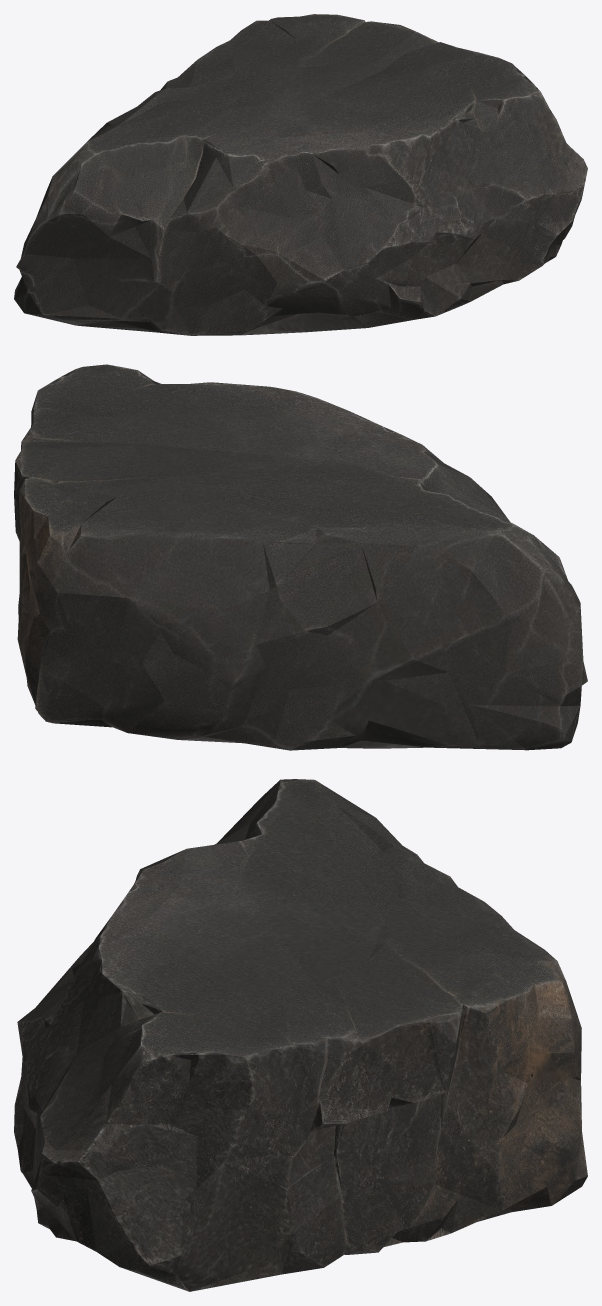
File: co_basalt_block.glb
3 views of the same model, one above another, from view 1: azimuth 30°, elevation 25°; view 2: azimuth 150°, elevation 25°; view 3: azimuth 270°, elevation 25° (orthographic). The views are drawn at different scales.
Visible parts, largest first — view 1: output_unwrapped; view 2: output_unwrapped; view 3: output_unwrapped.
Part boxes in pixels (box(x1,y1,x2,y2)): output_unwrapped: box(14, 14, 587, 335); output_unwrapped: box(14, 364, 587, 750); output_unwrapped: box(14, 779, 587, 1291).
Bounding box in the file's own units: 1.9 × 0.6045 × 1.34.
1 material, 1 textured.
